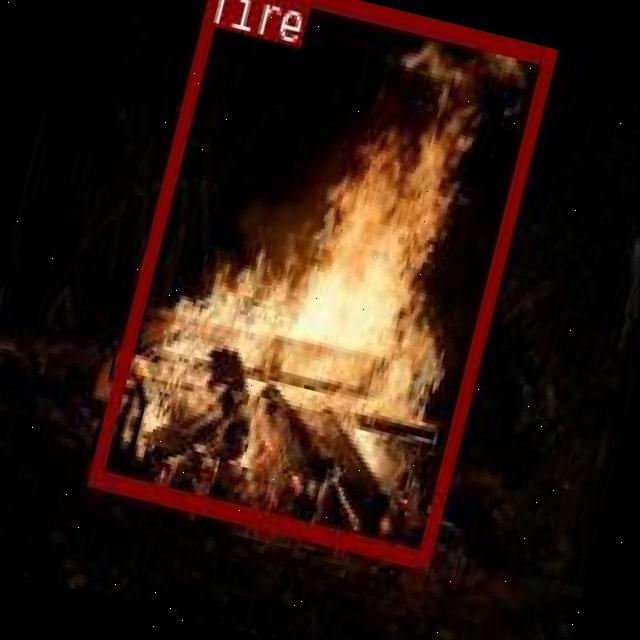fire: (86, 0, 553, 563)
